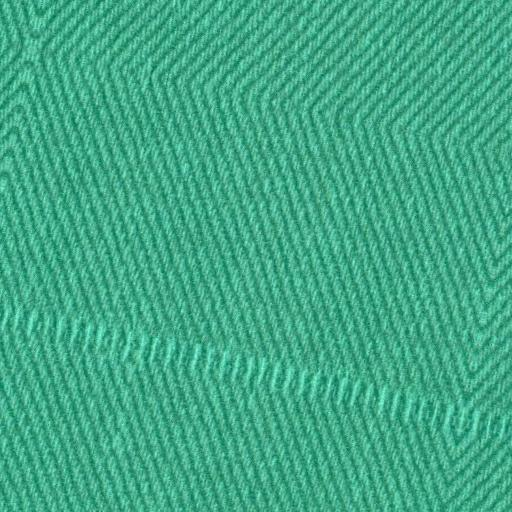slub: (1, 300, 512, 445)
